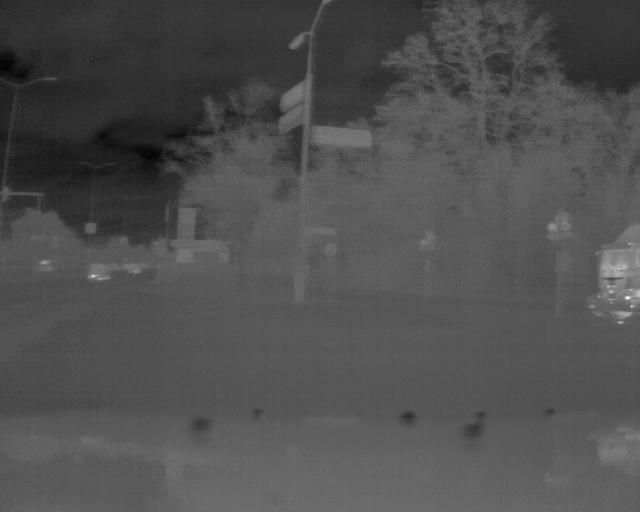car: (84, 261, 112, 283)
